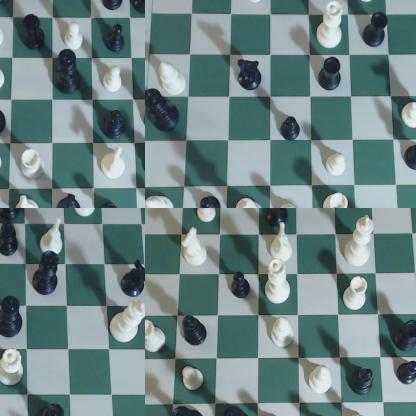black-bishop: (180, 313, 211, 348), (351, 366, 380, 398), (1, 222, 23, 262), (103, 108, 129, 139), (403, 142, 416, 175), (100, 1, 127, 16)
black-king: (146, 90, 185, 134), (57, 50, 82, 103), (1, 294, 27, 340), (220, 401, 260, 416)
black-knight: (121, 258, 145, 298), (237, 58, 264, 92), (265, 209, 295, 233), (53, 195, 84, 208), (1, 209, 26, 221)
black-pawn: (105, 25, 131, 56), (283, 107, 305, 143), (229, 271, 252, 302), (397, 358, 416, 390), (197, 191, 223, 208), (96, 201, 127, 208)
black-queen: (35, 252, 62, 300), (1, 94, 12, 138), (170, 404, 208, 416), (35, 403, 66, 416)
black-rook: (360, 14, 389, 51), (392, 314, 416, 358), (316, 57, 344, 94), (23, 14, 48, 52)
white-bishop: (153, 53, 192, 96), (267, 320, 300, 354), (308, 359, 336, 398), (1, 55, 12, 98), (146, 193, 176, 208)
white-king: (344, 211, 376, 273), (107, 301, 145, 348), (232, 192, 267, 208)
white-knight: (268, 225, 301, 270), (179, 230, 211, 272), (101, 146, 130, 181), (40, 219, 64, 257), (401, 95, 416, 132), (13, 195, 42, 208), (74, 209, 101, 219)
white-pawn: (176, 361, 221, 398), (324, 156, 353, 181), (103, 62, 125, 93), (190, 209, 224, 227), (344, 408, 374, 416)
white-queen: (312, 1, 348, 54), (263, 262, 299, 307), (1, 347, 29, 391)
white-rook: (340, 276, 375, 315), (20, 149, 51, 184), (146, 319, 170, 358), (322, 191, 352, 208)
